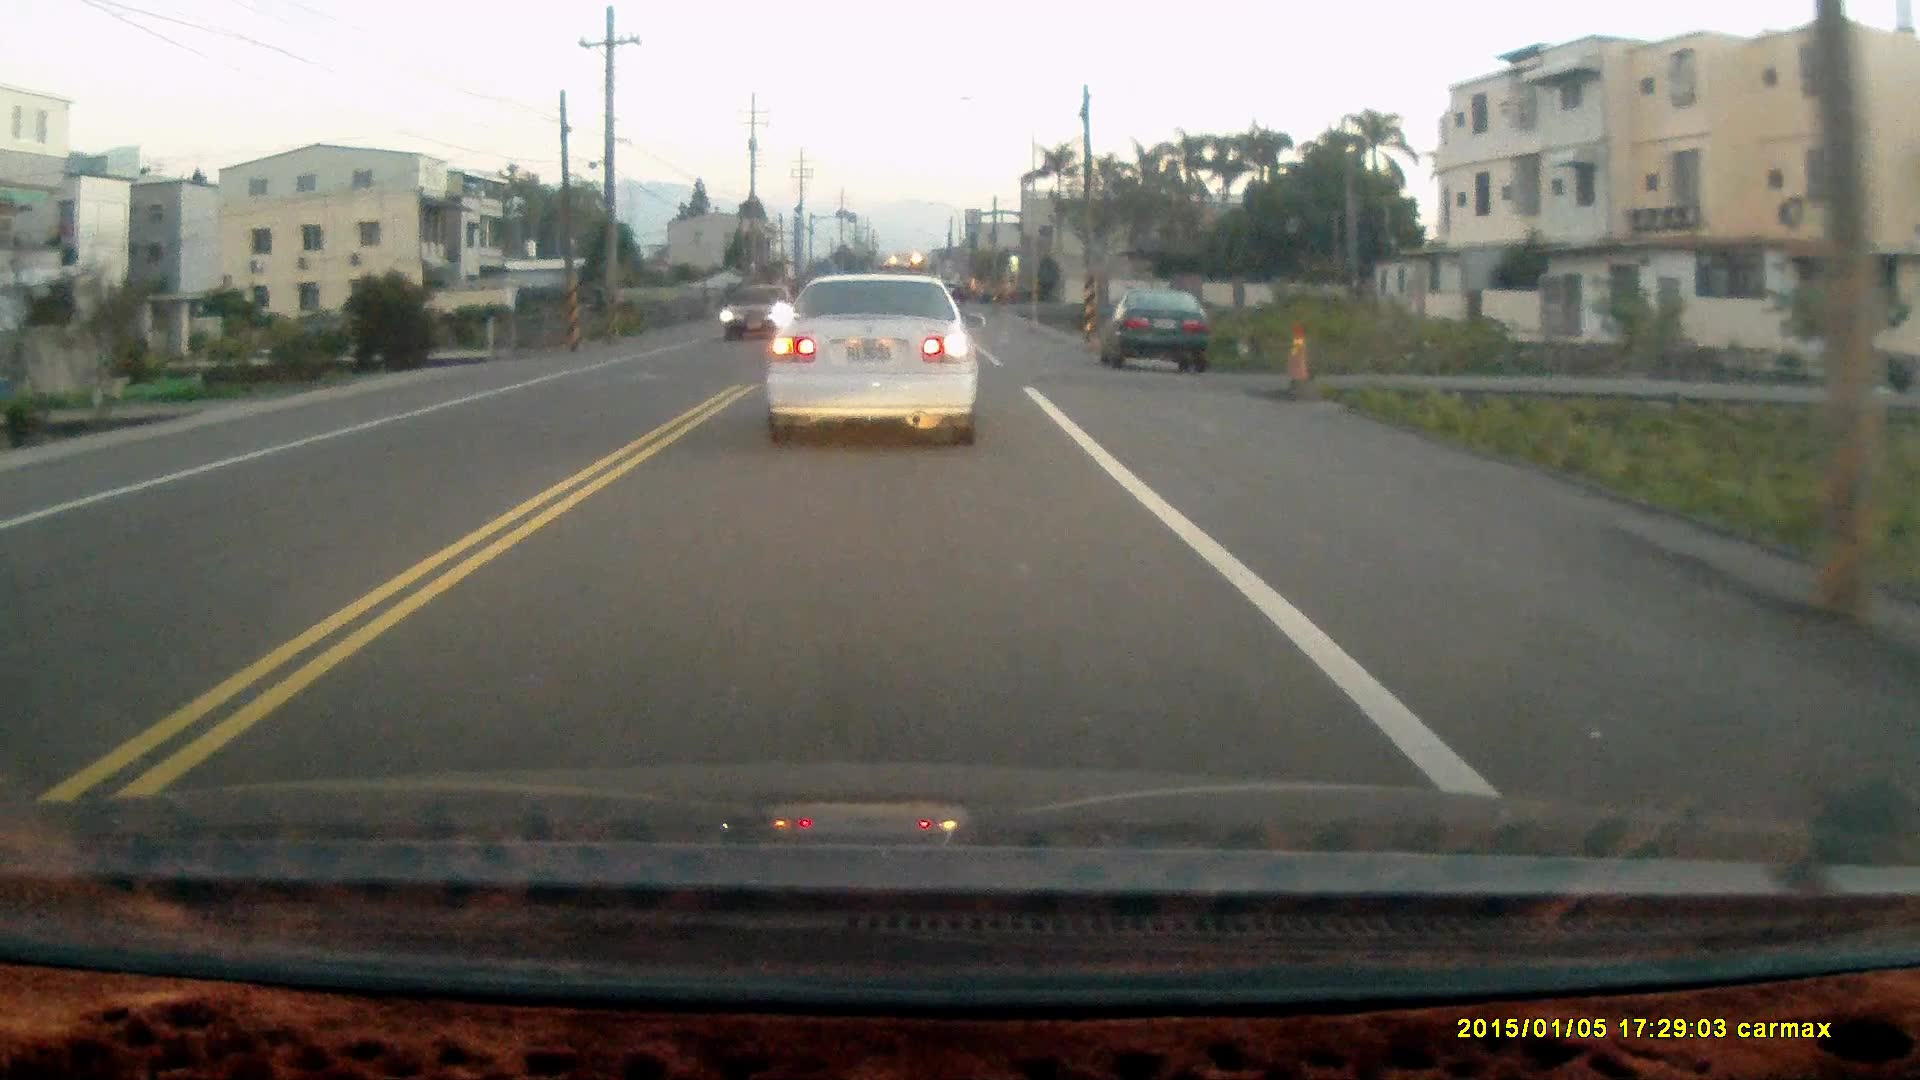vehicle: (764, 270, 980, 451), (1106, 290, 1216, 378), (723, 284, 794, 345)
